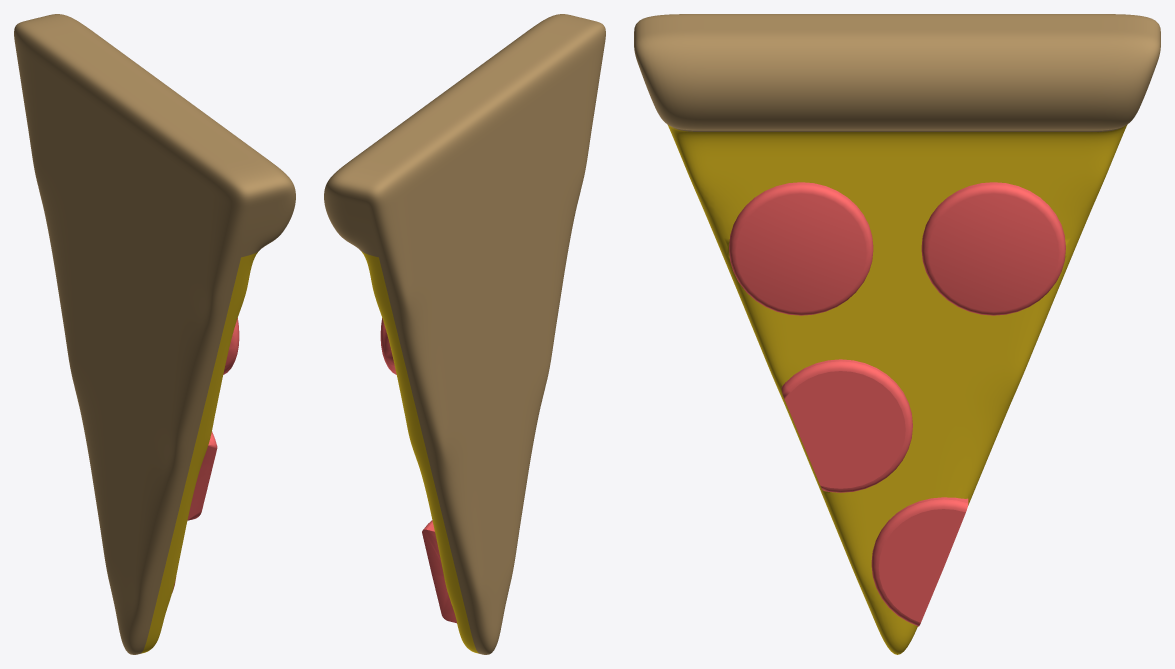
The model's file is Pizza.fbx.
The picture shows the model from 3 angles, left to right: view 1: azimuth 30°, elevation 25°; view 2: azimuth 150°, elevation 25°; view 3: azimuth 270°, elevation 25°; orthographic projection. The views are drawn at different scales.
Visible parts, largest first — view 1: Pizza; view 2: Pizza; view 3: Pizza.
Boxes of the visible parts, left/top/right/bottom form: Pizza: left=14, top=14, right=295, bottom=654; Pizza: left=324, top=14, right=605, bottom=654; Pizza: left=634, top=14, right=1160, bottom=654.
Size of the model in its own units: 39.61 by 290 by 219.
